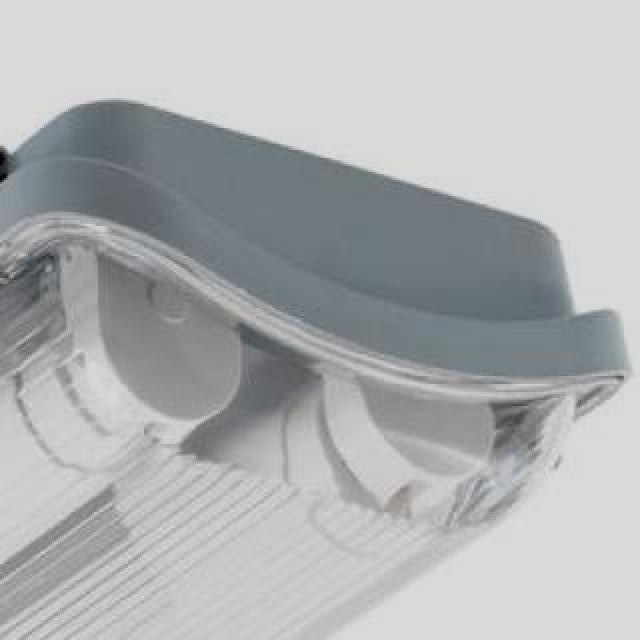fluorescent tube: (0, 332, 532, 640), (0, 256, 252, 640)
